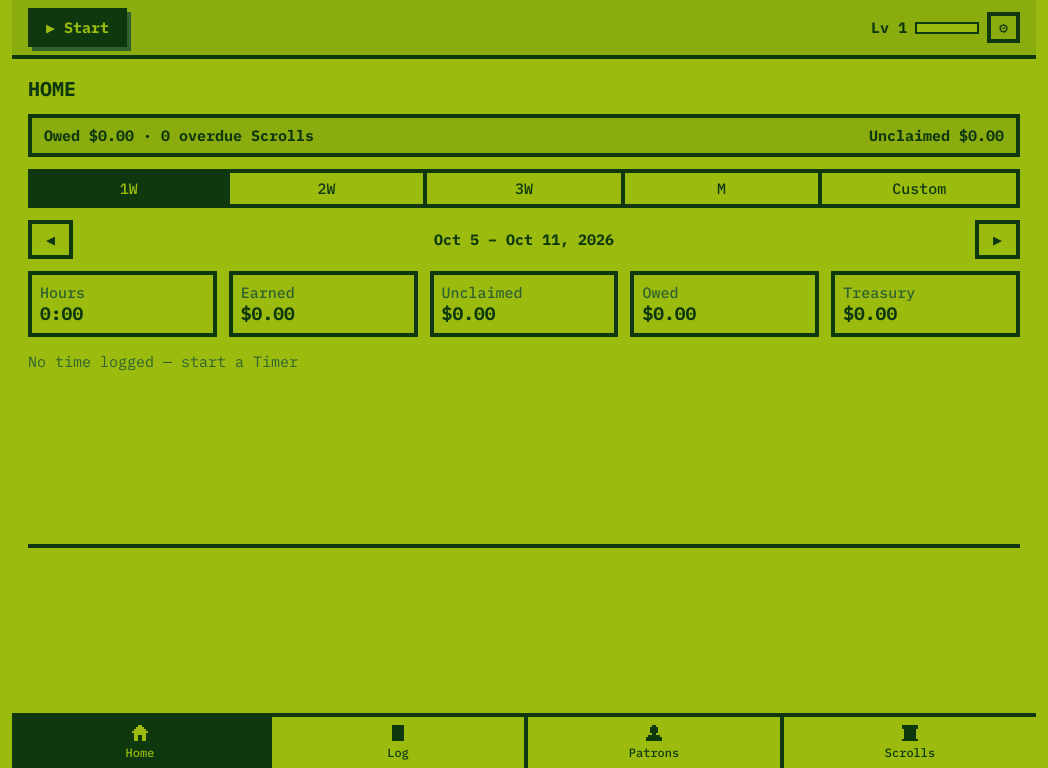
a failed load shows its error › on the Log entries
Click the tab "Log". click: (396, 742)
box: [268, 717, 524, 767]
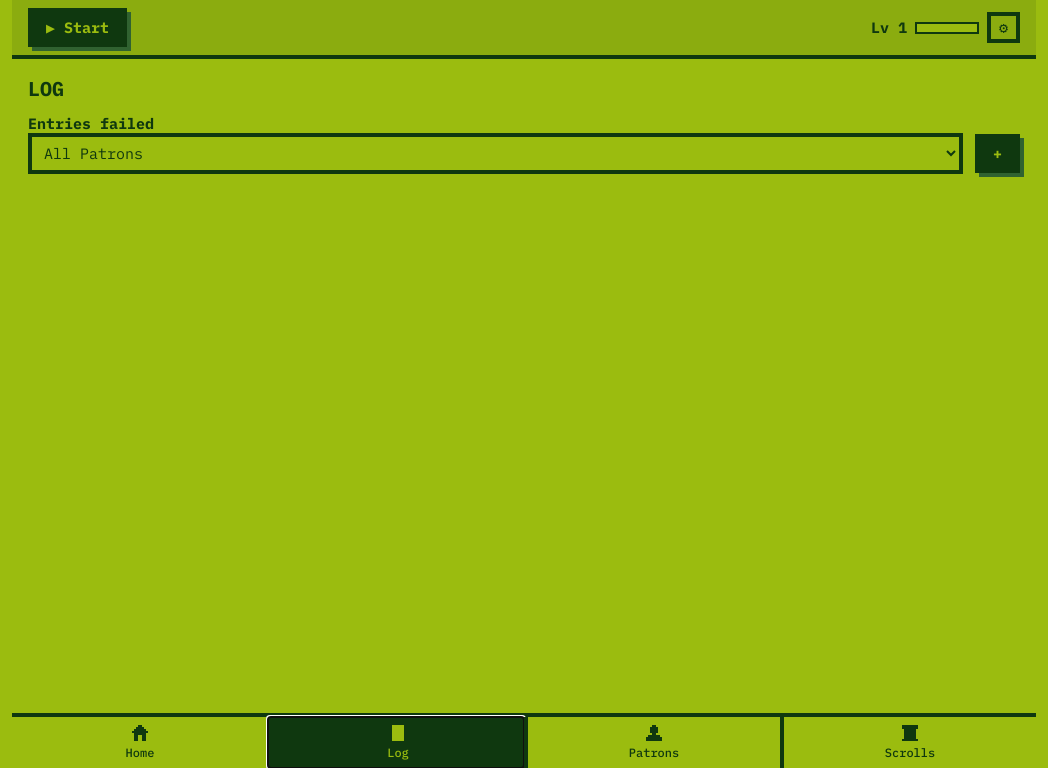
Now the message reads "Entries failed", box [28, 114, 154, 133]
